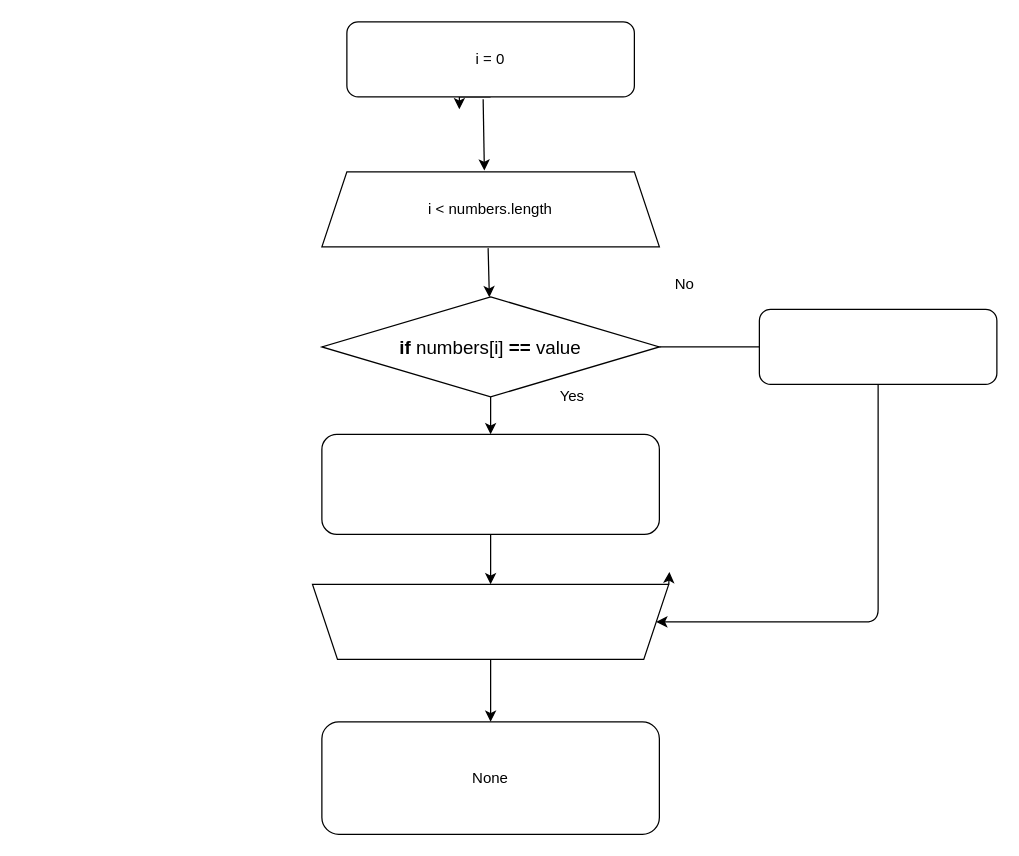
This 1019x856 diagram has some shape labels left out. Here are the shapes that lost their labels. From the top down, the centre of each, then its label:
At [877,346]: "i +=1".
At [490,483]: "return i".
